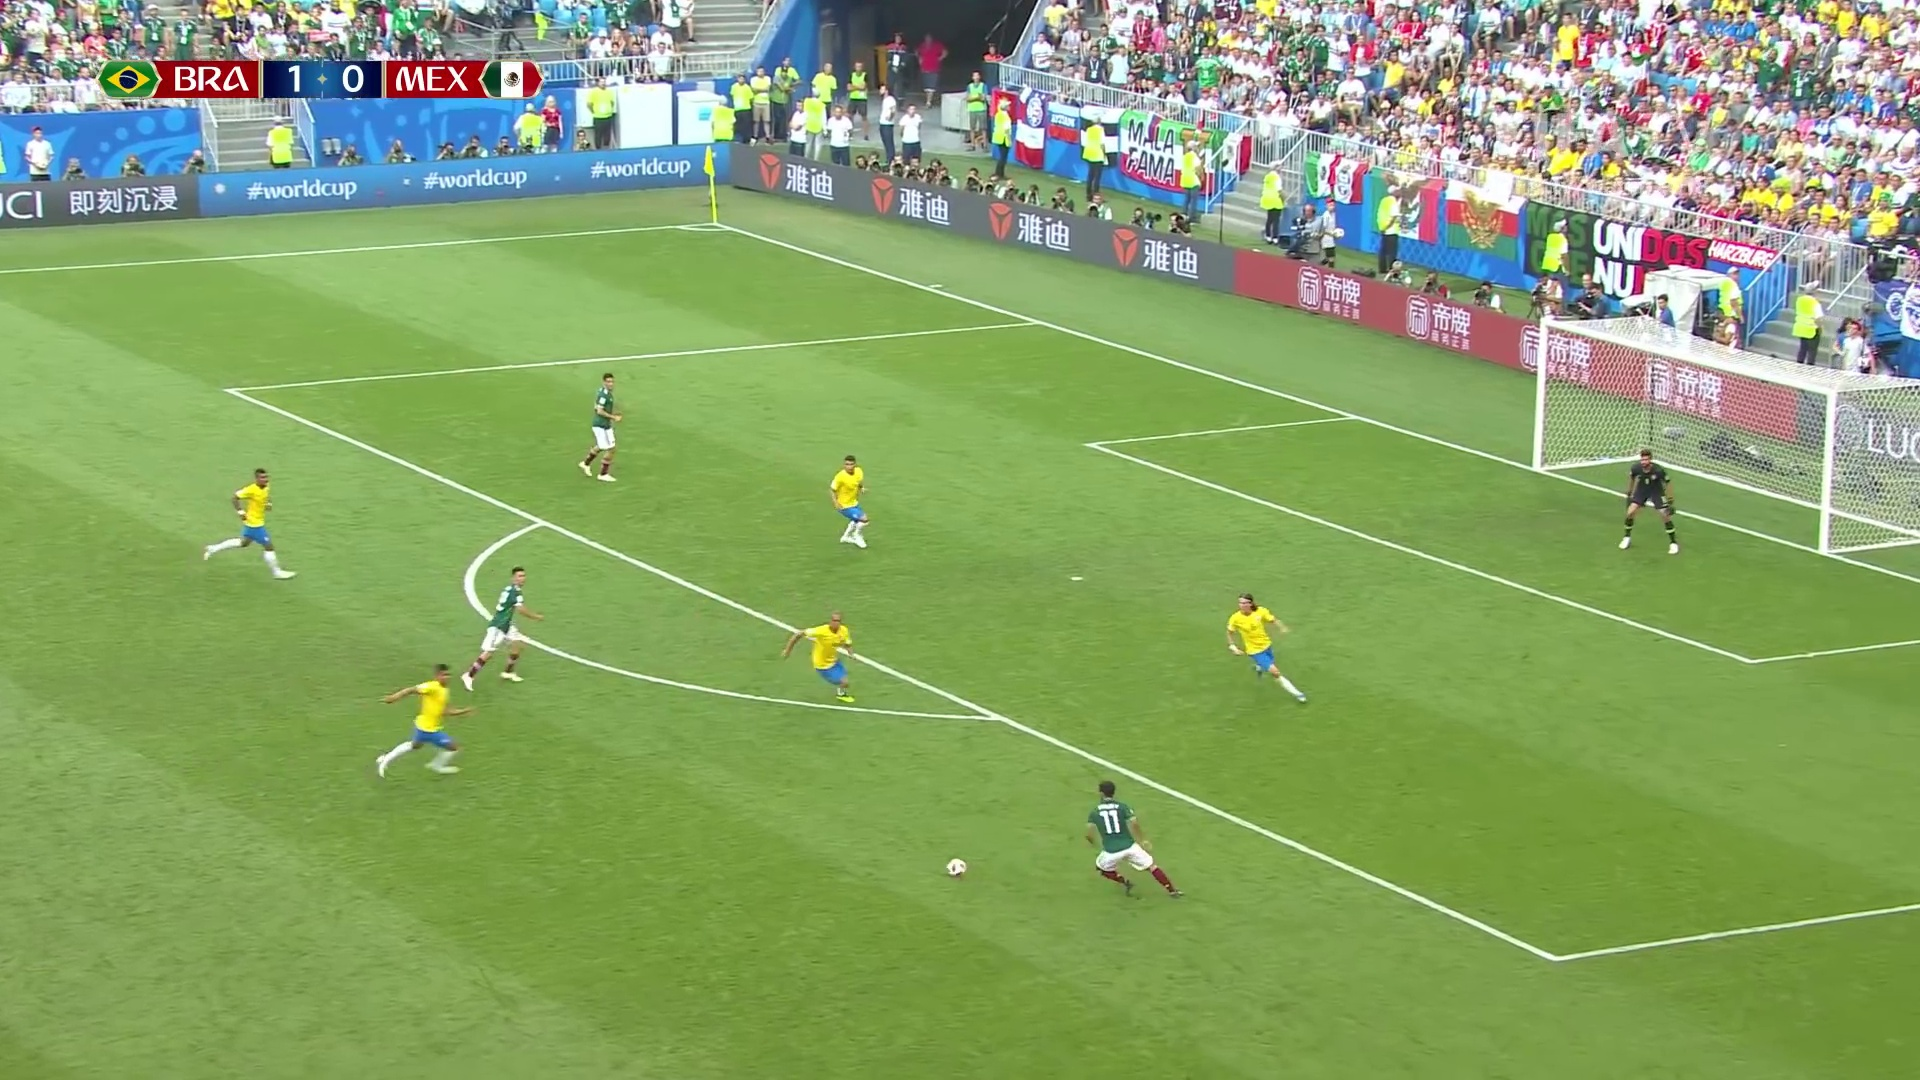ball: (948, 861, 966, 876)
person: (1082, 779, 1185, 899), (364, 667, 468, 774), (200, 470, 295, 579), (1230, 591, 1314, 710), (463, 563, 540, 683), (787, 610, 856, 705), (1621, 450, 1681, 551), (579, 371, 618, 483), (832, 456, 869, 545)
